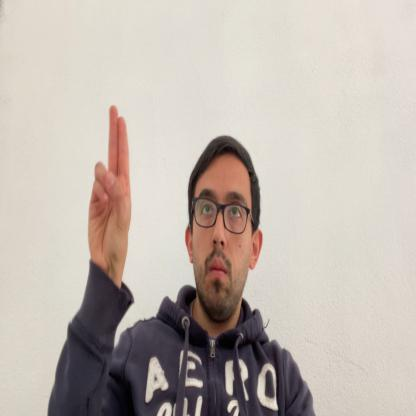U: (88, 106, 132, 278)
